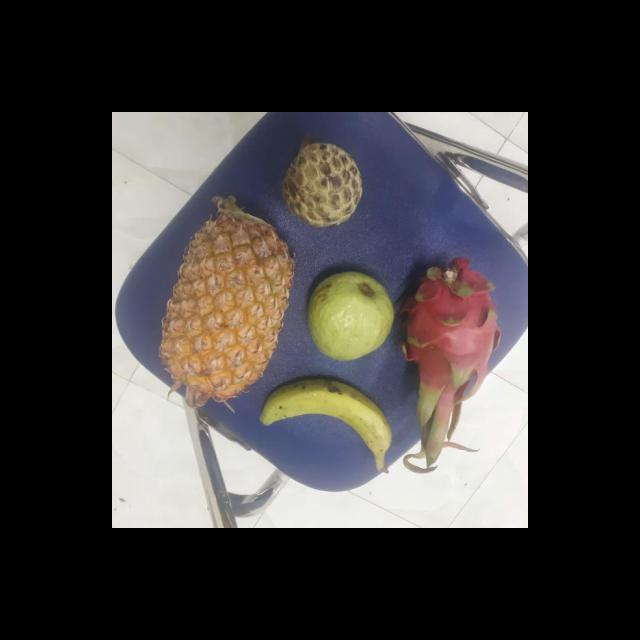Sakya fruit: (278, 143, 362, 230)
banana: (259, 381, 389, 464)
guava: (302, 272, 394, 363)
pineapple: (154, 206, 290, 406)
pitaya: (396, 260, 498, 404)
